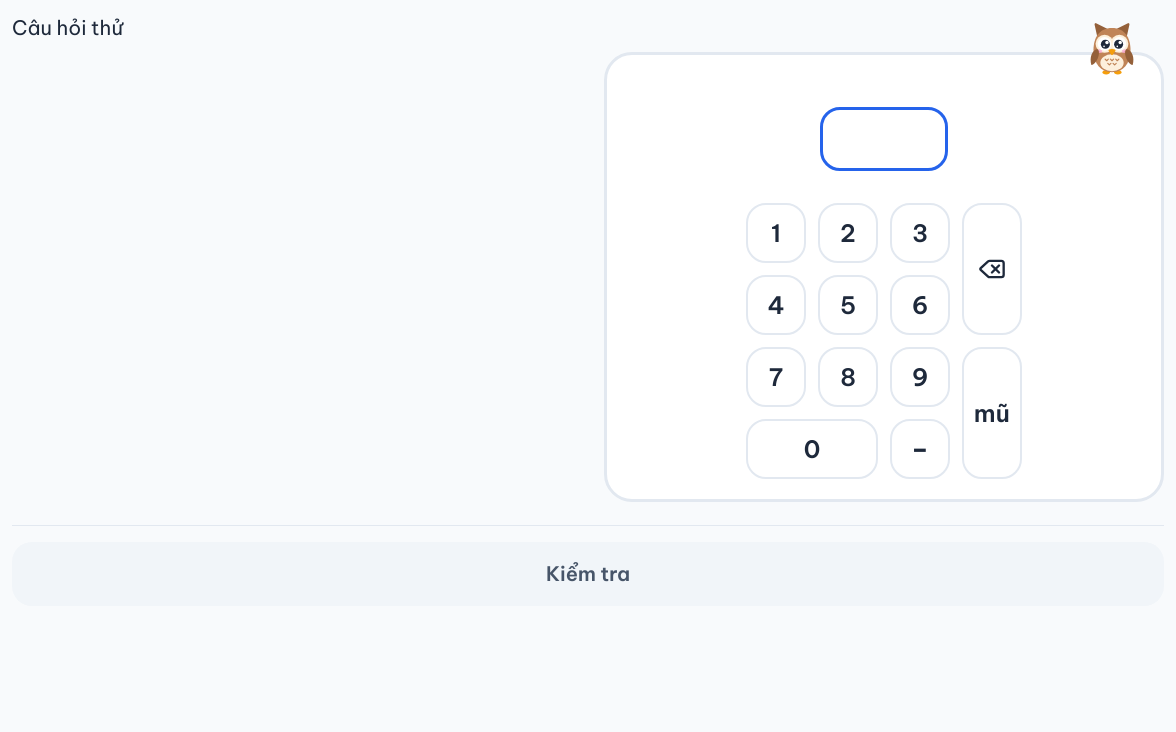
Test case: NumericAnswer › disables the minus key while the exponent is typed
Click the button "2".
click(848, 233)  # box [818,203,878,263]
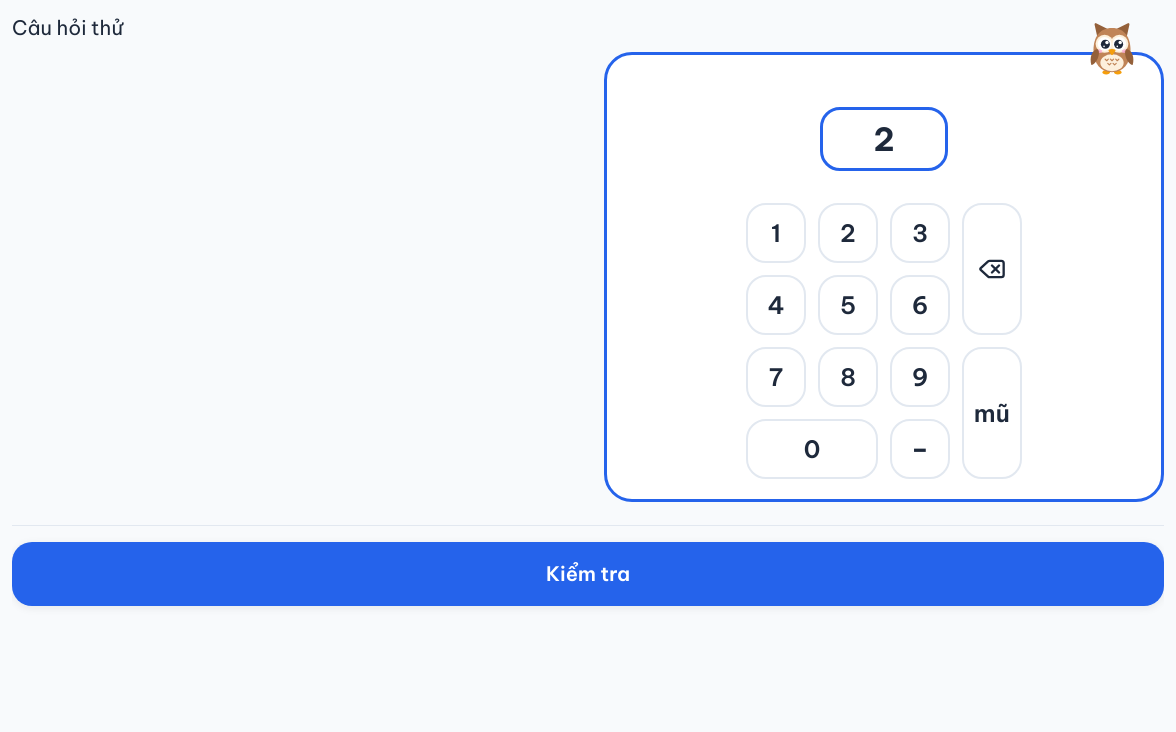
Click the button named "Dấu trừ".
click(920, 449)  # box [890,419,950,479]
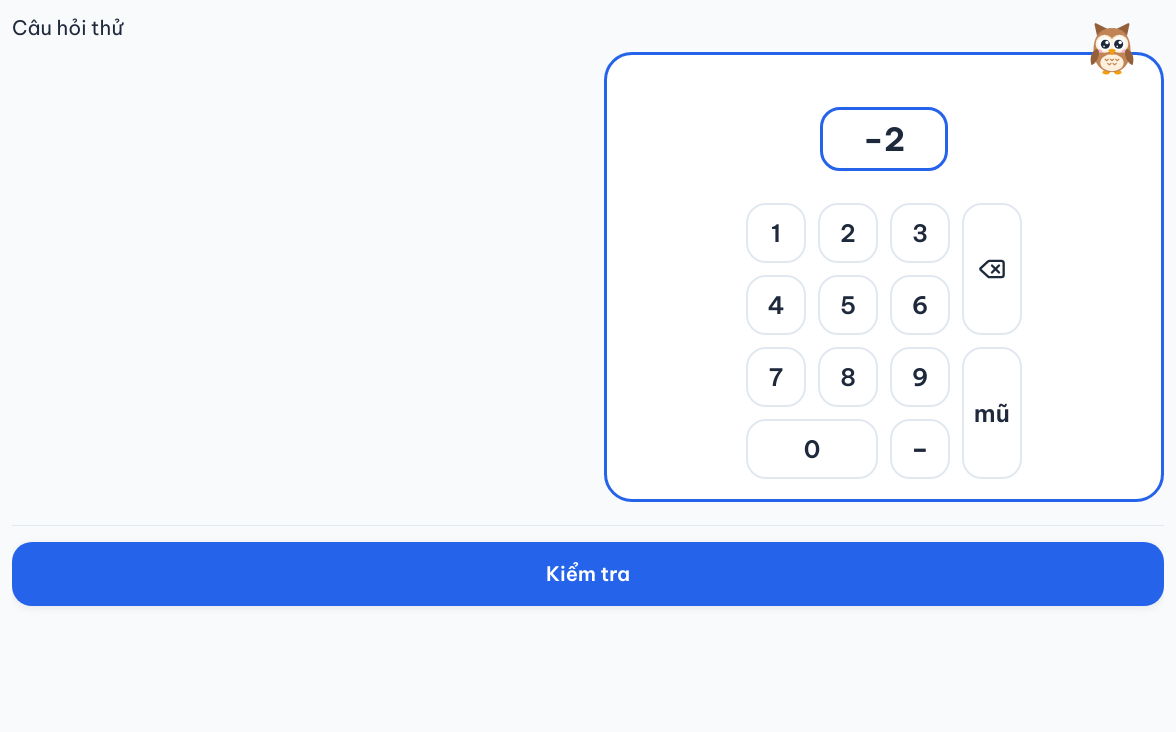
Click the button with aria-label "Số mũ".
click(992, 413)  # box [962,347,1022,479]
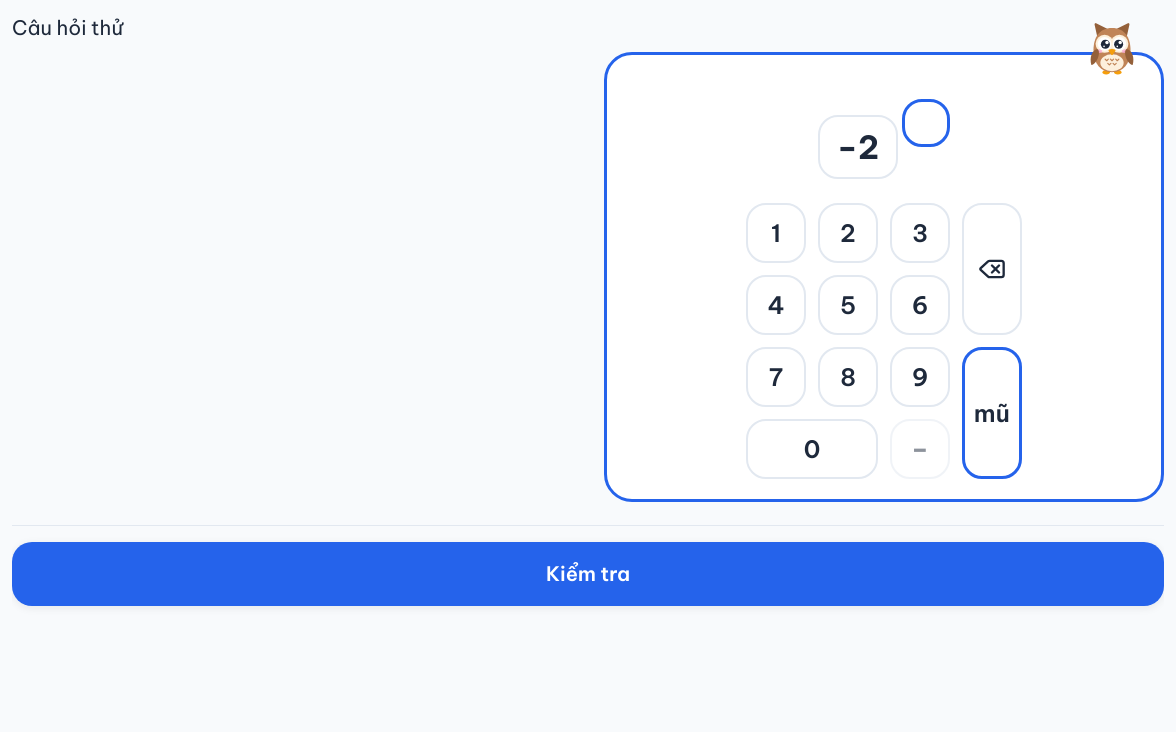
Expected: the button named "Dấu trừ" is disabled, [890,419,950,479]
